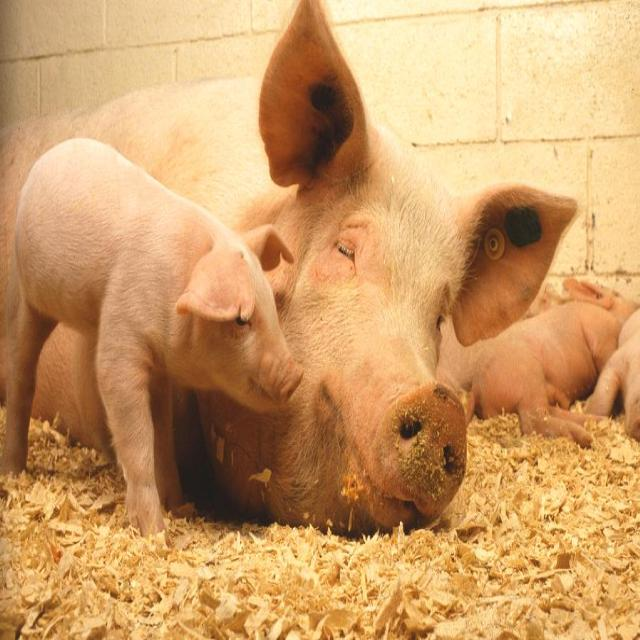pig: (0, 2, 576, 532), (1, 138, 302, 535), (469, 295, 631, 446), (585, 308, 640, 439)
